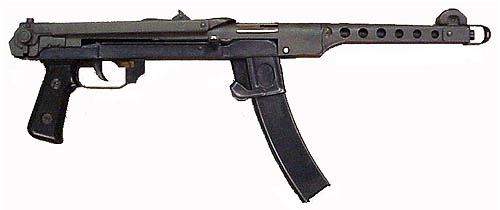rifle: (9, 10, 491, 191)
